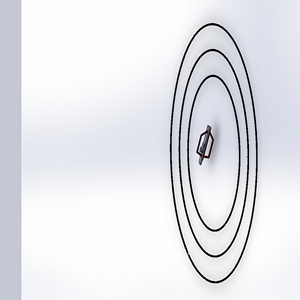circle: (166, 17, 265, 290)
submarine: (193, 121, 222, 171)
